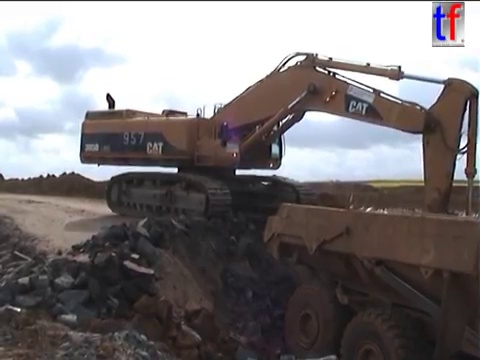excavator: (75, 49, 480, 279)
truck: (257, 185, 480, 360)
